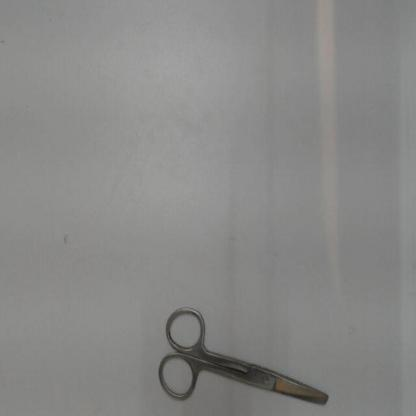Dressing Scissors: (151, 297, 336, 411)
